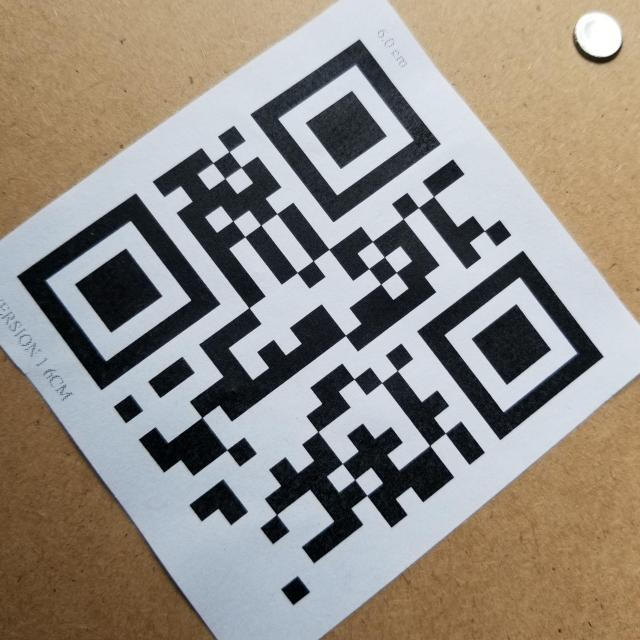QR_CODE: (19, 37, 602, 606)
